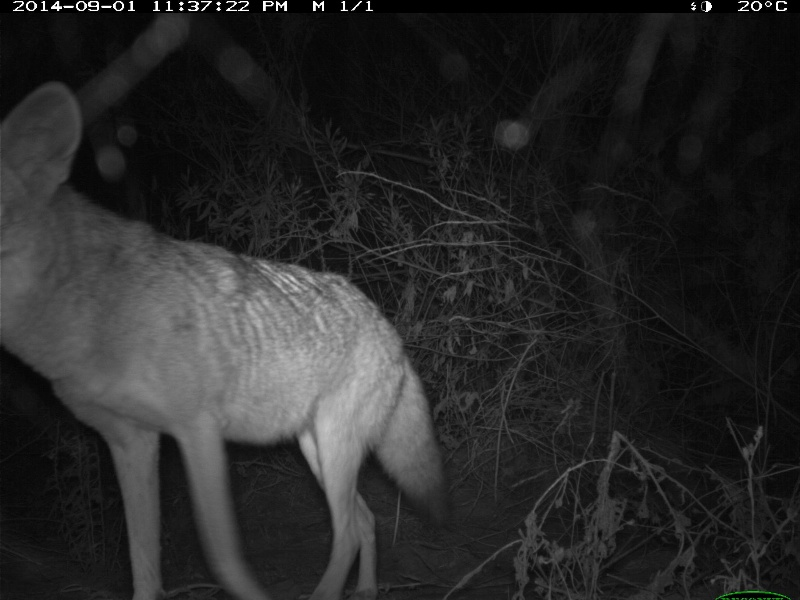coyote: (1, 73, 441, 600)
